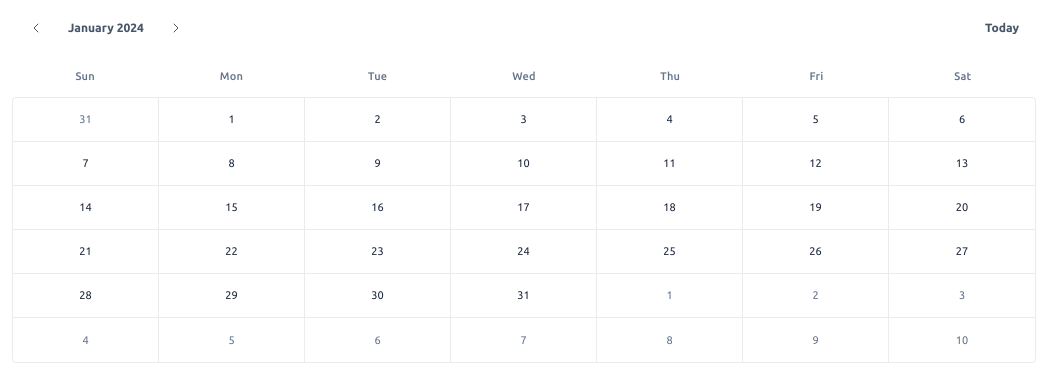
FlowCalendarView — navigation › previous month button changes month
Expected: the text "January 2024" is shown, [68,21,144,34]
What coordinates should you click on to do the following:
click the button named "Previous month"
I would click on:
 (36, 28)
Its box is [12,4,60,52].
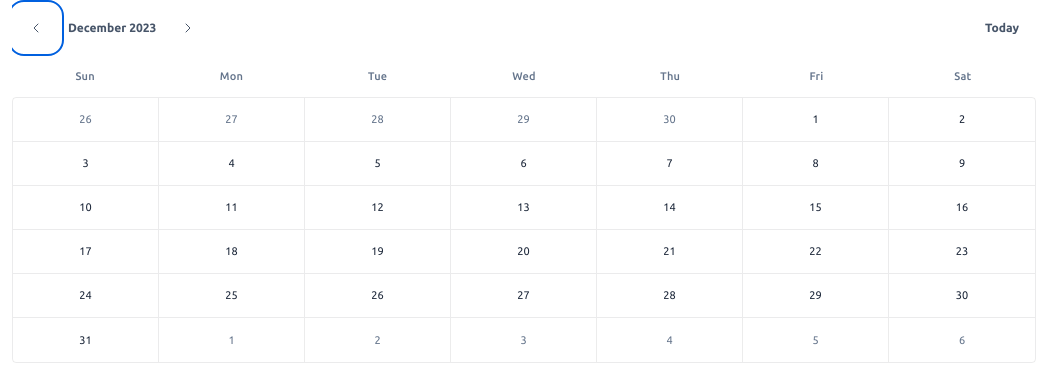
Result: the text "December 2023" is shown at [68,21,156,34]
